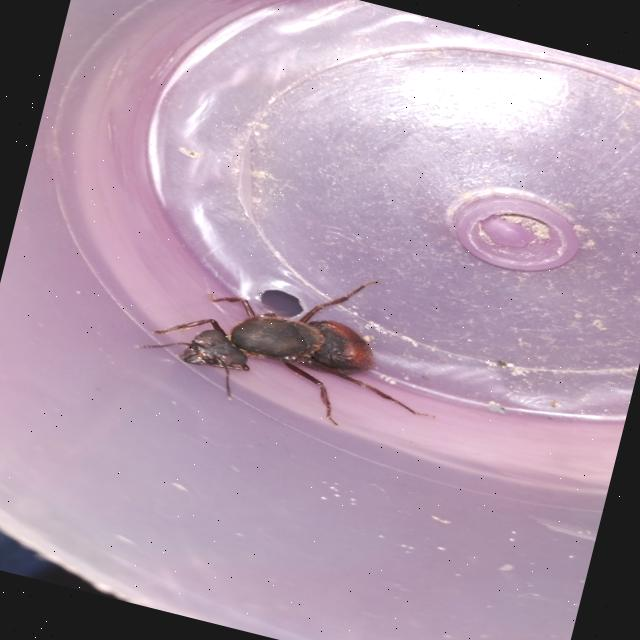Alive-Female-Dealate: (126, 226, 464, 450)
